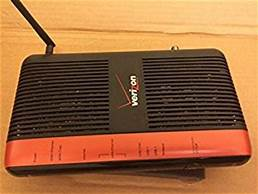Verizon Router: (5, 24, 258, 180)
